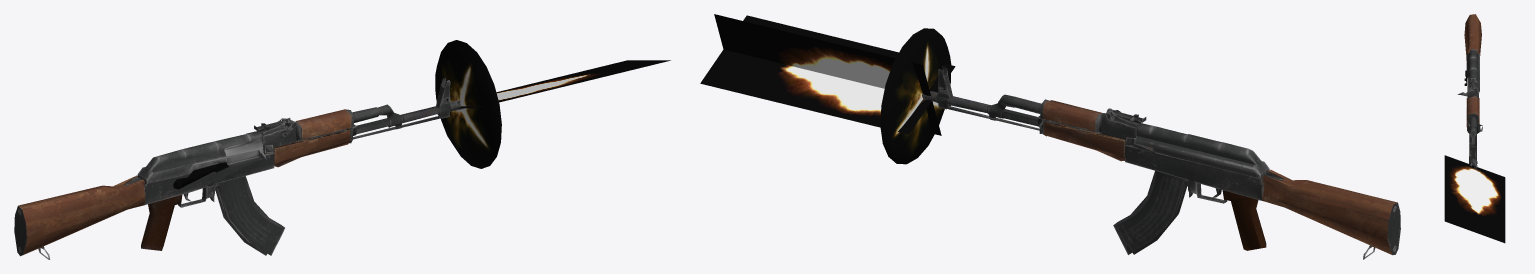
3 renders of one model, left to right at view 1: azimuth 30°, elevation 25°; view 2: azimuth 150°, elevation 25°; view 3: azimuth 270°, elevation 25°, orthographic. The views are drawn at different scales.
Parts seen in each view (by area): view 1: AK47_Decimated, MuzzleFlash; view 2: AK47_Decimated, MuzzleFlash; view 3: MuzzleFlash, AK47_Decimated.
Boxes of the visible parts, bbox=[...] form: AK47_Decimated: bbox=[14, 78, 463, 259]; MuzzleFlash: bbox=[435, 40, 670, 168]; AK47_Decimated: bbox=[922, 66, 1400, 259]; MuzzleFlash: bbox=[700, 14, 955, 164]; MuzzleFlash: bbox=[1444, 155, 1505, 243]; AK47_Decimated: bbox=[1457, 14, 1482, 169].
Bounding box in the file's own units: 1.37 × 0.3336 × 0.2486.
2 materials, 2 textured.
